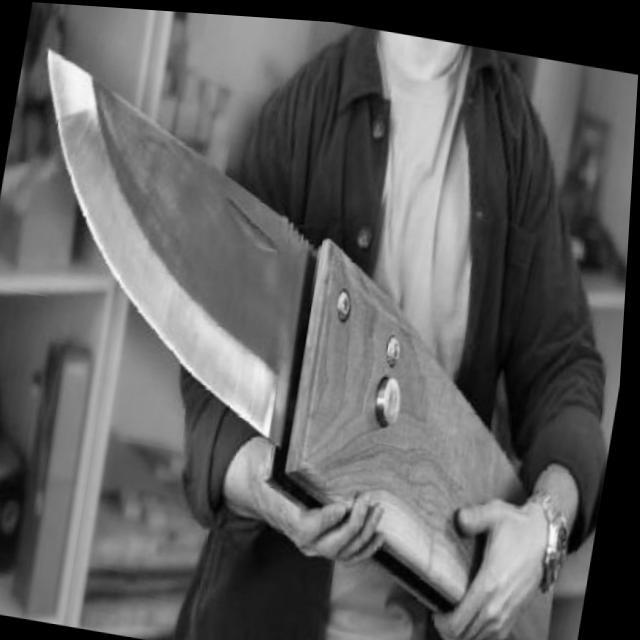weapon: (0, 38, 638, 640)
